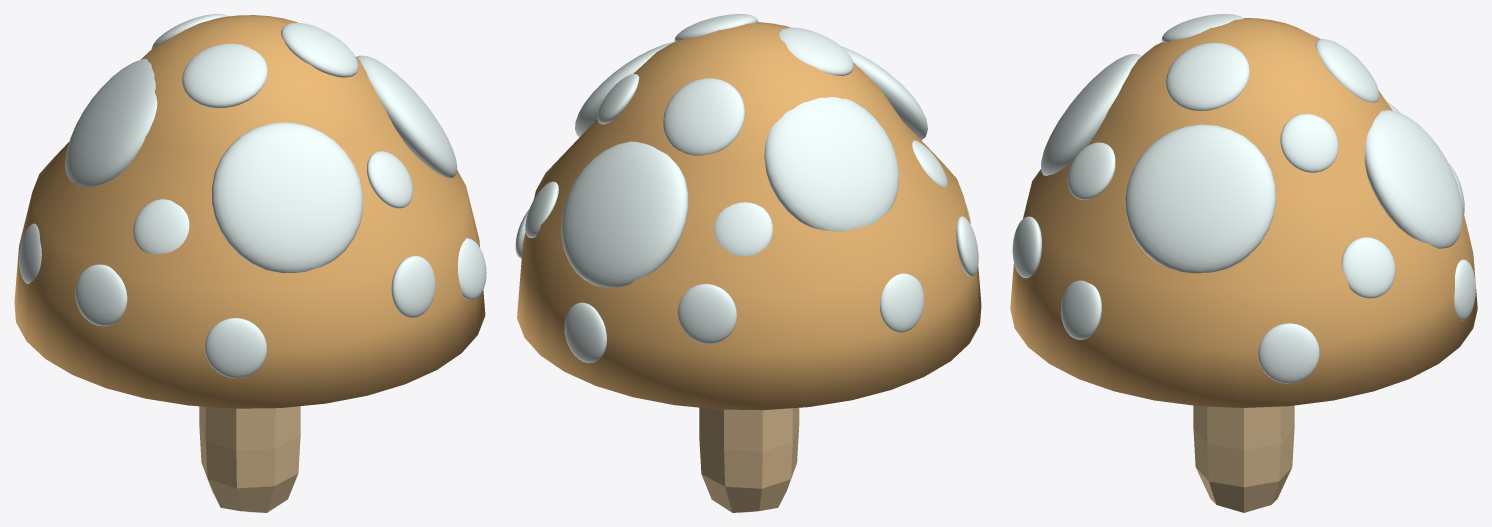
The model's file is orangemushroom.fbx.
3 renders of one model, left to right at view 1: azimuth 30°, elevation 25°; view 2: azimuth 150°, elevation 25°; view 3: azimuth 270°, elevation 25°, orthographic.
Parts seen in each view (by area): view 1: TopBase, Spot.002, Cube, Spot, Spot.004, Spot.009, Spot.015, Spot.008, Spot.019, Spot.006, Spot.012, Spot.007 (+3 smaller); view 2: TopBase, Spot.001, Spot, Cube, Spot.010, Spot.013, Spot.005, Spot.009, Spot.011, Spot.002, Spot.016, Spot.004 (+5 smaller); view 3: TopBase, Spot.004, Cube, Spot.001, Spot.008, Spot.002, Spot.017, Spot.003, Spot.018, Spot.007, Spot.010, Spot.014 (+3 smaller).
Boxes of the visible parts, x1,y1,x2,y2 form: TopBase: [14, 15, 485, 408]; Spot.002: [212, 122, 362, 272]; Cube: [199, 406, 300, 512]; Spot: [65, 59, 157, 187]; Spot.004: [356, 55, 457, 178]; Spot.009: [182, 43, 267, 108]; Spot.015: [205, 318, 266, 378]; Spot.008: [281, 22, 358, 77]; Spot.019: [75, 264, 127, 326]; Spot.006: [133, 199, 189, 254]; Spot.012: [391, 255, 435, 317]; Spot.007: [367, 151, 413, 208]; TopBase: [517, 22, 981, 410]; Spot.001: [561, 141, 688, 287]; Spot: [764, 97, 898, 231]; Cube: [699, 407, 799, 512]; Spot.010: [663, 78, 745, 155]; Spot.013: [678, 284, 736, 343]; Spot.005: [714, 202, 773, 256]; Spot.009: [779, 27, 853, 75]; Spot.011: [879, 273, 924, 332]; Spot.002: [841, 46, 927, 139]; Spot.016: [564, 302, 606, 362]; Spot.004: [575, 41, 674, 137]; TopBase: [1010, 18, 1477, 407]; Spot.004: [1125, 124, 1275, 273]; Cube: [1193, 405, 1294, 512]; Spot.001: [1364, 110, 1462, 248]; Spot.008: [1166, 42, 1249, 110]; Spot.002: [1041, 54, 1141, 175]; Spot.017: [1258, 323, 1319, 383]; Spot.003: [1280, 113, 1338, 172]; Spot.018: [1341, 237, 1395, 298]; Spot.007: [1067, 142, 1115, 200]; Spot.010: [1315, 39, 1379, 102]; Spot.014: [1061, 280, 1101, 339].
Size of the model in its own units: 202 by 226 by 200.
